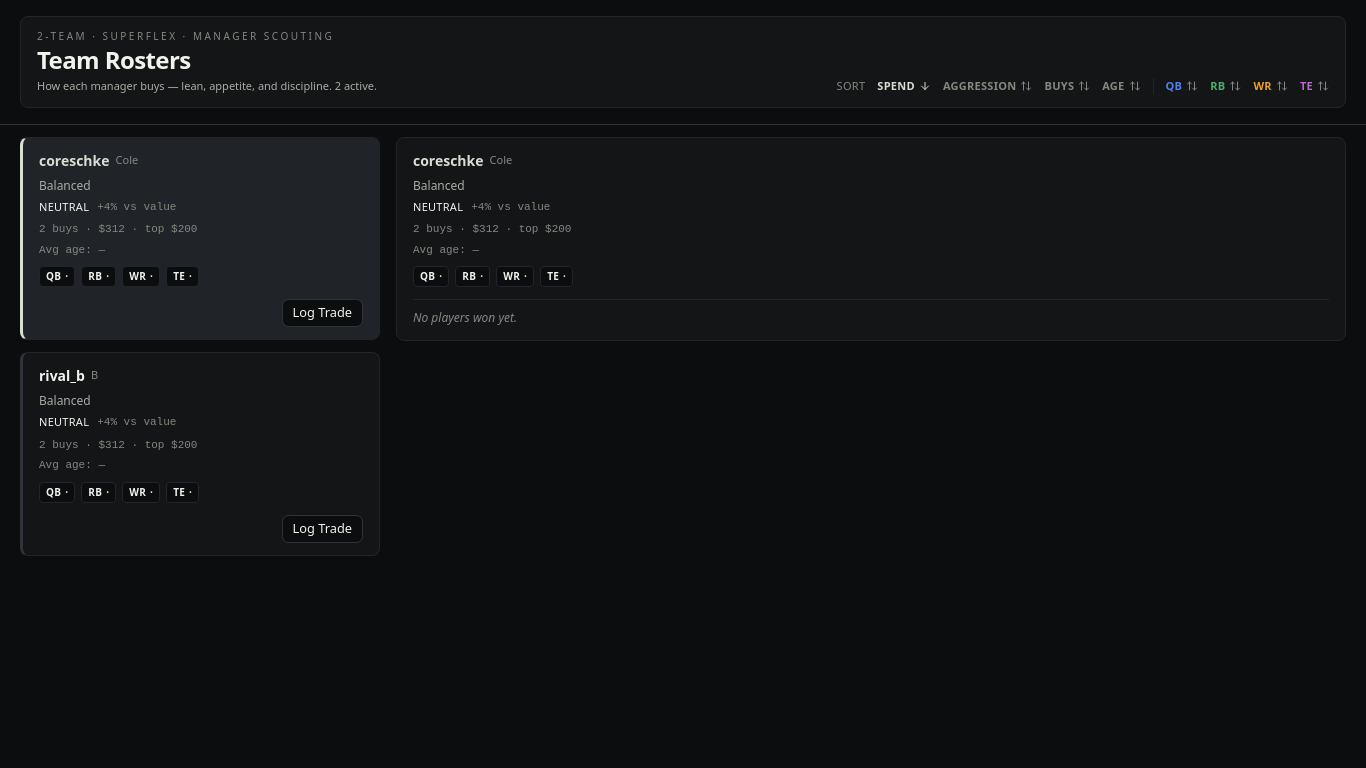
Test: RosterTracker › shows draft capital only on the team that currently holds a traded pick
Step 1. Click the button with test id "dossier-expand-1" → (74, 160), box 39,150 -> 199,287
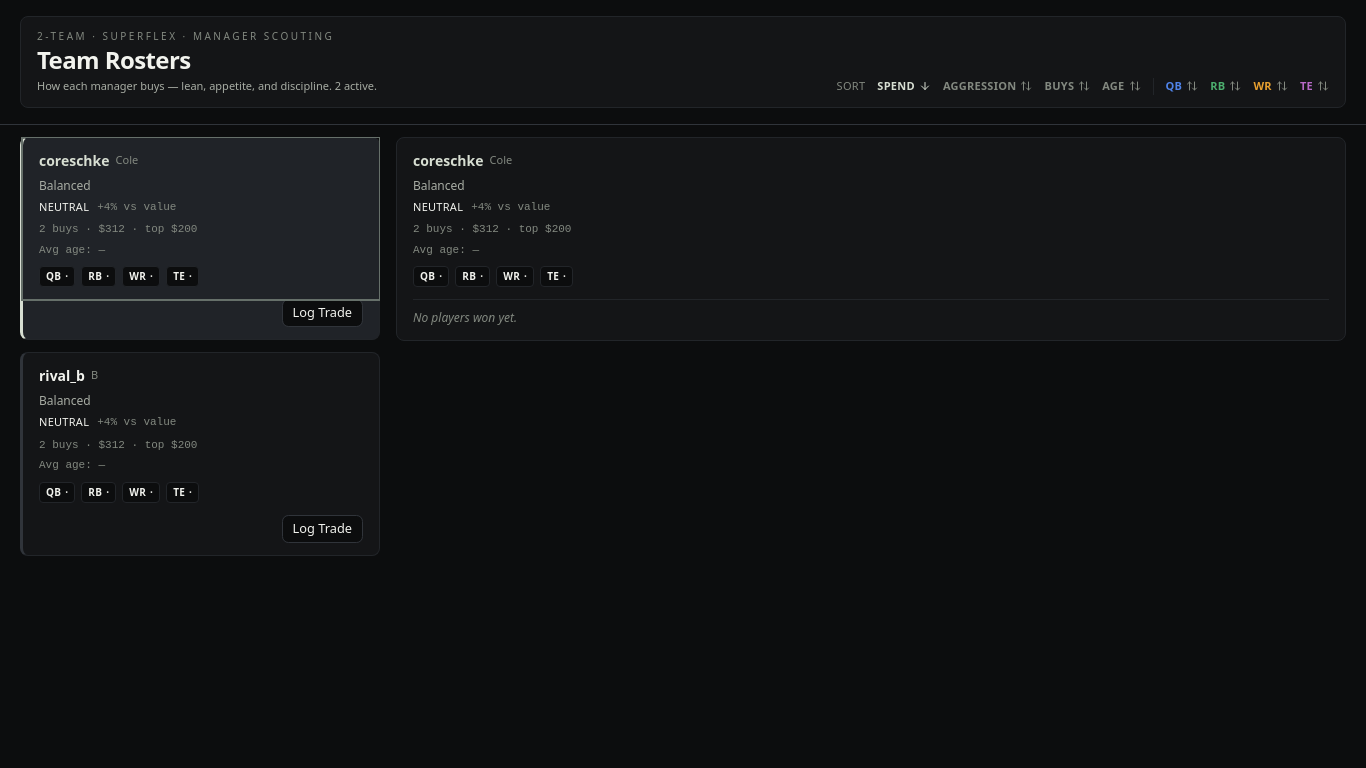
Step 2. Click the button with test id "dossier-expand-2" → (62, 376), box 39,366 -> 199,502
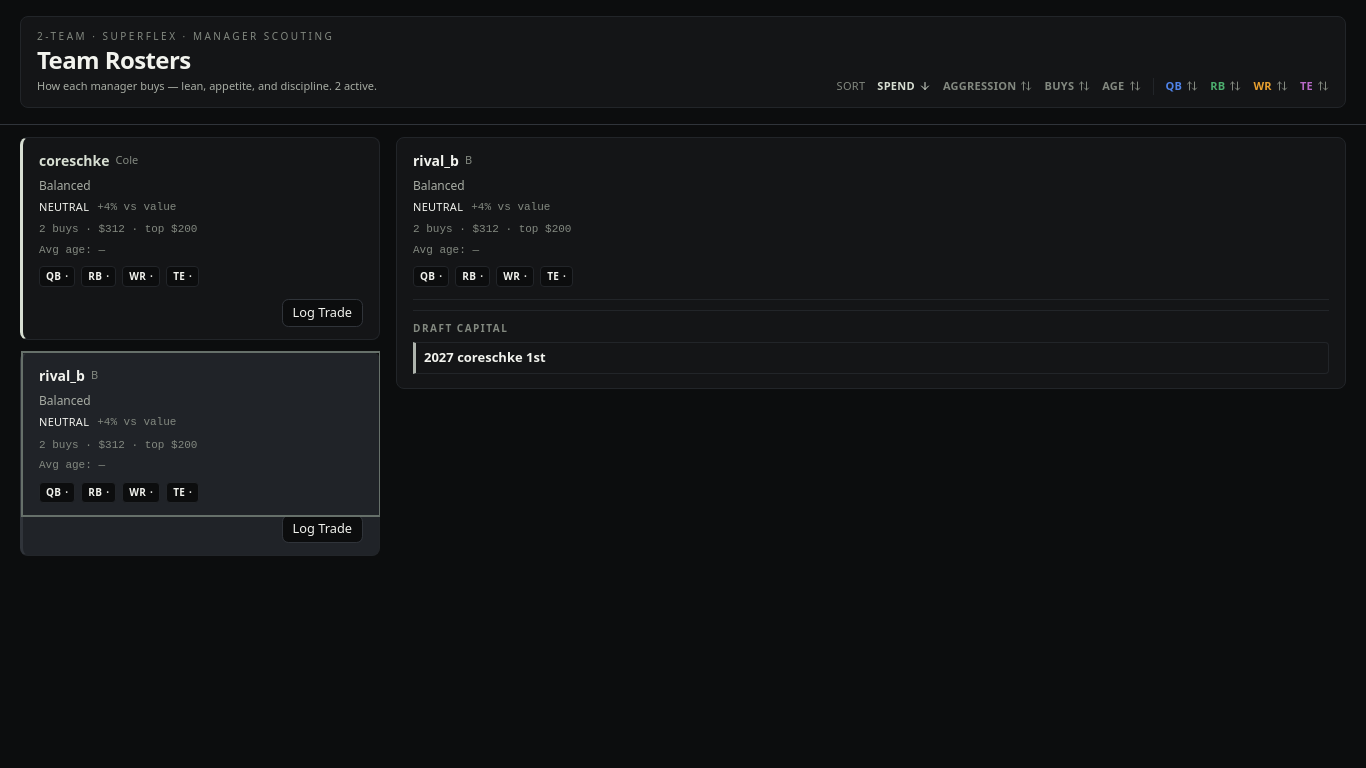
Expected: the text with test id "draft-capital-1-2027-1" reads "2027 coreschke 1st", 413,342 -> 1329,374
